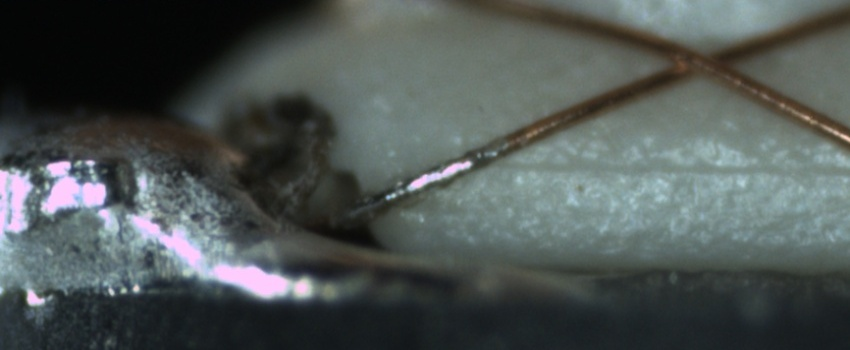CL: (652, 29, 754, 89)
DL: (494, 132, 850, 196)
TS: (314, 135, 507, 232)
